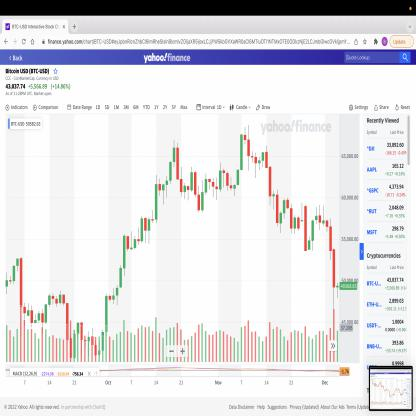Bearish: 3 Black Crows: (324, 215, 336, 309)
Bearish: Tweezer Top: (58, 287, 66, 309)
Bullish: 3 Line Strike: (208, 160, 222, 202)
Bullish: 3 White Soldiers: (115, 233, 126, 307)
Bullish: Tweezer Bottom: (196, 179, 205, 214)
